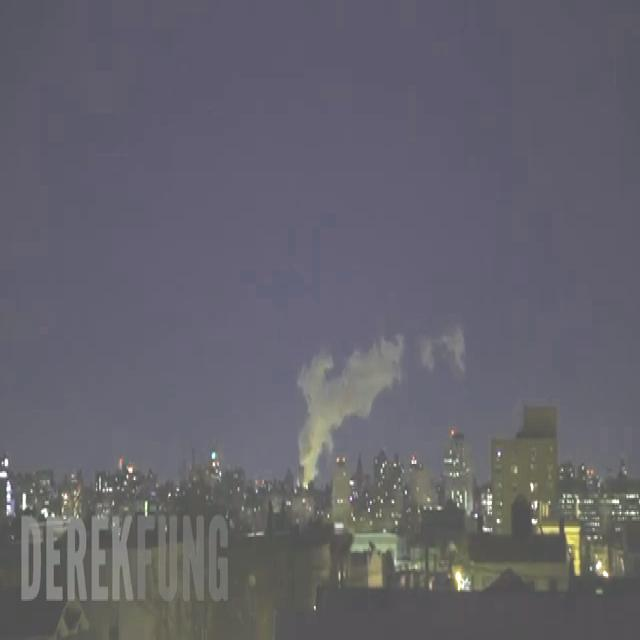smoke: (298, 336, 403, 480)
